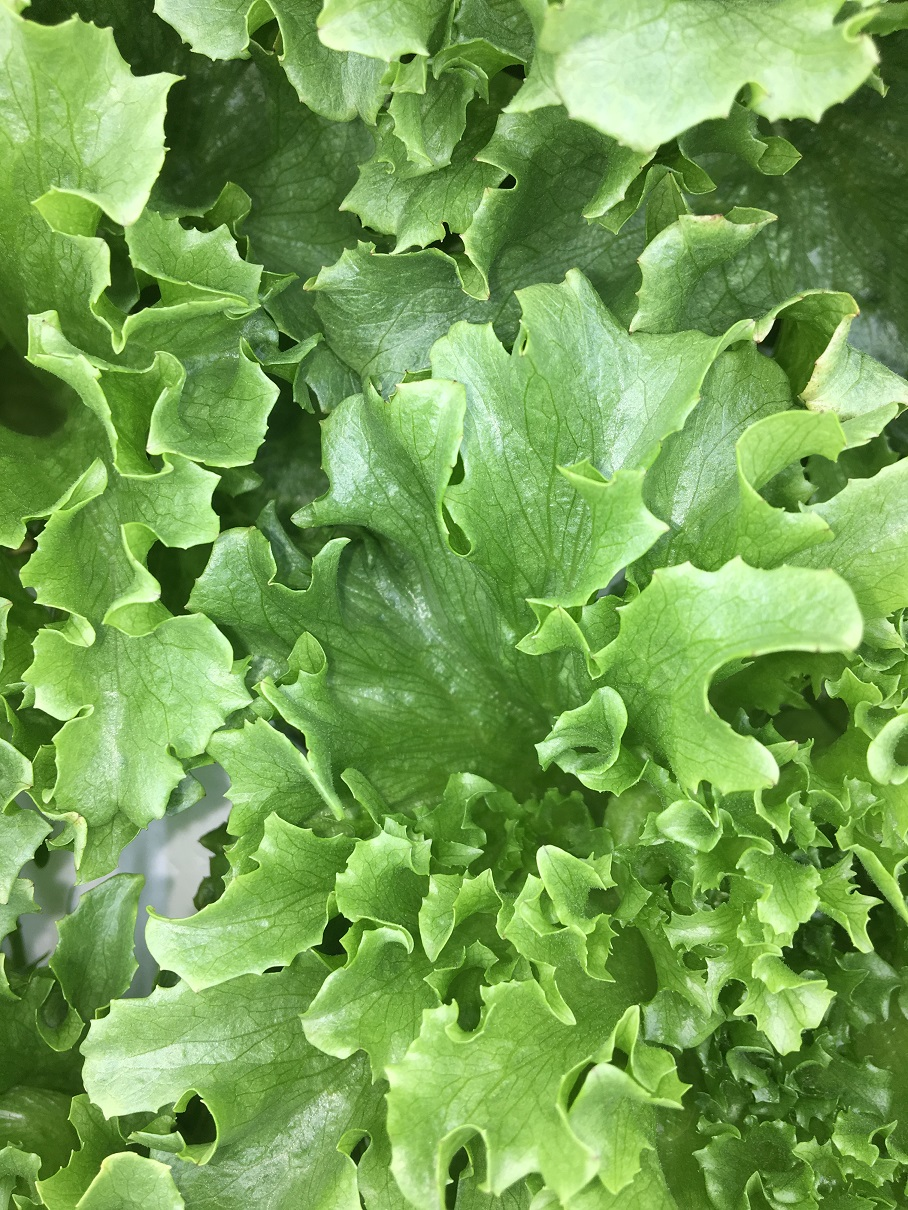tipburn: (372, 362, 416, 409), (26, 305, 65, 344), (702, 196, 740, 234), (436, 363, 473, 402), (732, 309, 771, 346), (184, 777, 220, 814), (836, 293, 870, 331), (622, 309, 656, 344), (291, 276, 330, 300), (790, 283, 812, 313), (260, 33, 283, 60), (363, 244, 388, 266), (309, 18, 335, 38)
